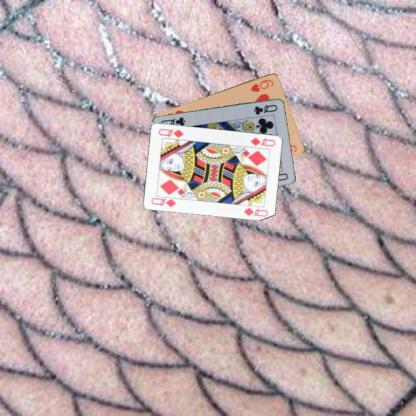6h: (248, 77, 275, 93)
Qc: (251, 102, 278, 116)
Qd: (149, 193, 180, 208), (248, 135, 276, 147)
